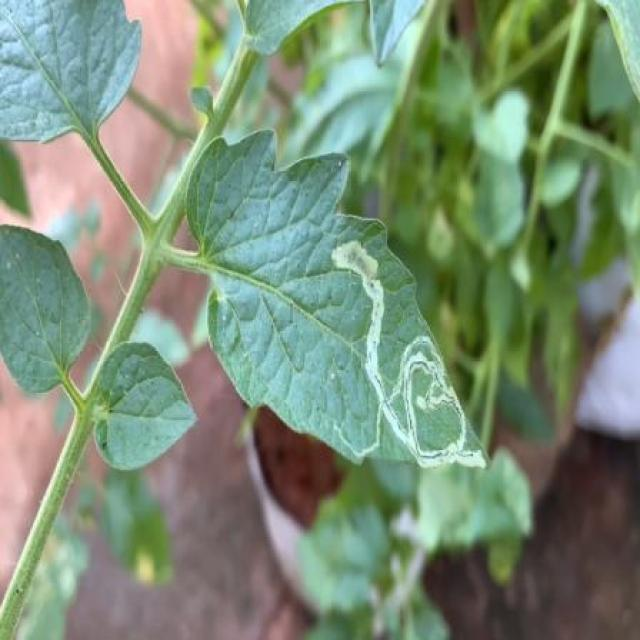Healthy: (0, 229, 90, 397), (95, 339, 198, 475)
Leaf Miner: (185, 129, 492, 470)
